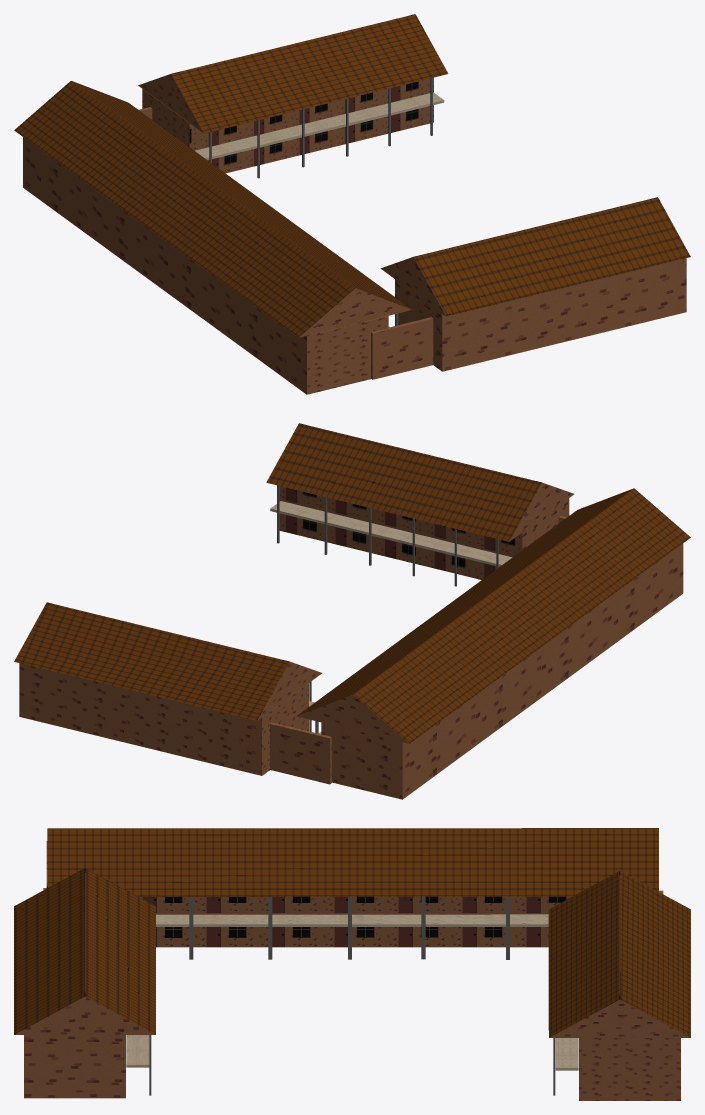
File: lawlorPrinty.obj
The picture shows the model from 3 angles, top to bottom: view 1: azimuth 30°, elevation 25°; view 2: azimuth 150°, elevation 25°; view 3: azimuth 270°, elevation 25°; orthographic projection. The views are drawn at different scales.
Parts seen in each view (by area): view 1: Cube.009_Cube.010, Cube.017_Cube.018, Cube.008_Cube.009, Cube.018_Cube.019, Cube_Cube.001, Cube.026_Cube.027, Cube.028_Cube, Cube.025_Cube.026; view 2: Cube.009_Cube.010, Cube.017_Cube.018, Cube.008_Cube.009, Cube.018_Cube.019, Cube.026_Cube.027, Cube_Cube.001, Cube.028_Cube, Cube.001_Cube.002; view 3: Cube.009_Cube.010, Cube.018_Cube.019, Cube.008_Cube.009, Cube.017_Cube.018, Cube_Cube.001, Cube.026_Cube.027, Cube.016_Cube.017, Cube.025_Cube.026, Cube.001_Cube.002.
Boxes of the visible parts, x1,y1,x2,y2 form: Cube.009_Cube.010: (14,81,411,337); Cube.017_Cube.018: (23,137,388,394); Cube.008_Cube.009: (380,197,690,316); Cube.018_Cube.019: (138,14,448,133); Cube_Cube.001: (395,258,686,371); Cube.026_Cube.027: (142,77,433,173); Cube.028_Cube: (139,107,433,379); Cube.025_Cube.026: (195,92,444,160); Cube.009_Cube.010: (296,488,690,743); Cube.017_Cube.018: (321,543,683,799); Cube.008_Cube.009: (266,423,574,541); Cube.018_Cube.019: (14,602,321,720); Cube.026_Cube.027: (19,663,308,775); Cube_Cube.001: (279,486,569,579); Cube.028_Cube: (270,516,566,784); Cube.001_Cube.002: (270,501,512,566); Cube.009_Cube.010: (47,828,658,896); Cube.018_Cube.019: (548,871,690,1037); Cube.008_Cube.009: (14,868,155,1034); Cube.017_Cube.018: (46,841,571,947); Cube_Cube.001: (24,1035,125,1098); Cube.026_Cube.027: (579,1038,680,1100); Cube.016_Cube.017: (156,914,548,926); Cube.025_Cube.026: (555,1038,578,1070); Cube.001_Cube.002: (126,1035,149,1067).
Size of the model in its own units: 41.59 by 9.95 by 59.
